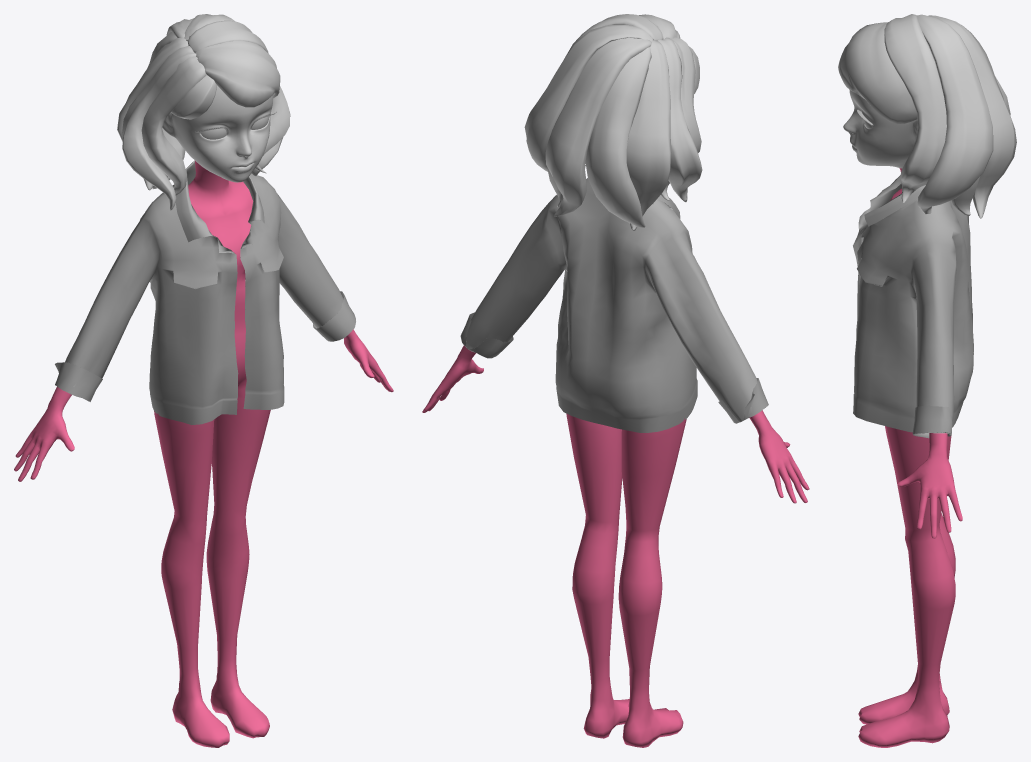
Rendered from girl_finnal.fbx.
The picture shows the model from 3 angles, left to right: view 1: azimuth 30°, elevation 25°; view 2: azimuth 150°, elevation 25°; view 3: azimuth 270°, elevation 25°; orthographic projection.
Parts seen in each view (by area): view 1: coat, body1, hair, face2; view 2: coat, hair, body1; view 3: coat, hair, body1, face2.
Part boxes in pixels (x1,y1,x2,y2): coat: [55, 161, 355, 424]; body1: [14, 160, 393, 747]; hair: [117, 14, 290, 210]; face2: [162, 85, 272, 182]; coat: [460, 178, 768, 432]; hair: [524, 14, 702, 230]; body1: [422, 345, 809, 747]; coat: [853, 175, 973, 438]; hair: [838, 14, 1016, 218]; body1: [858, 168, 962, 747]; face2: [843, 61, 939, 168].
Bounding box in the file's own units: 95.85 × 172 × 39.21.
